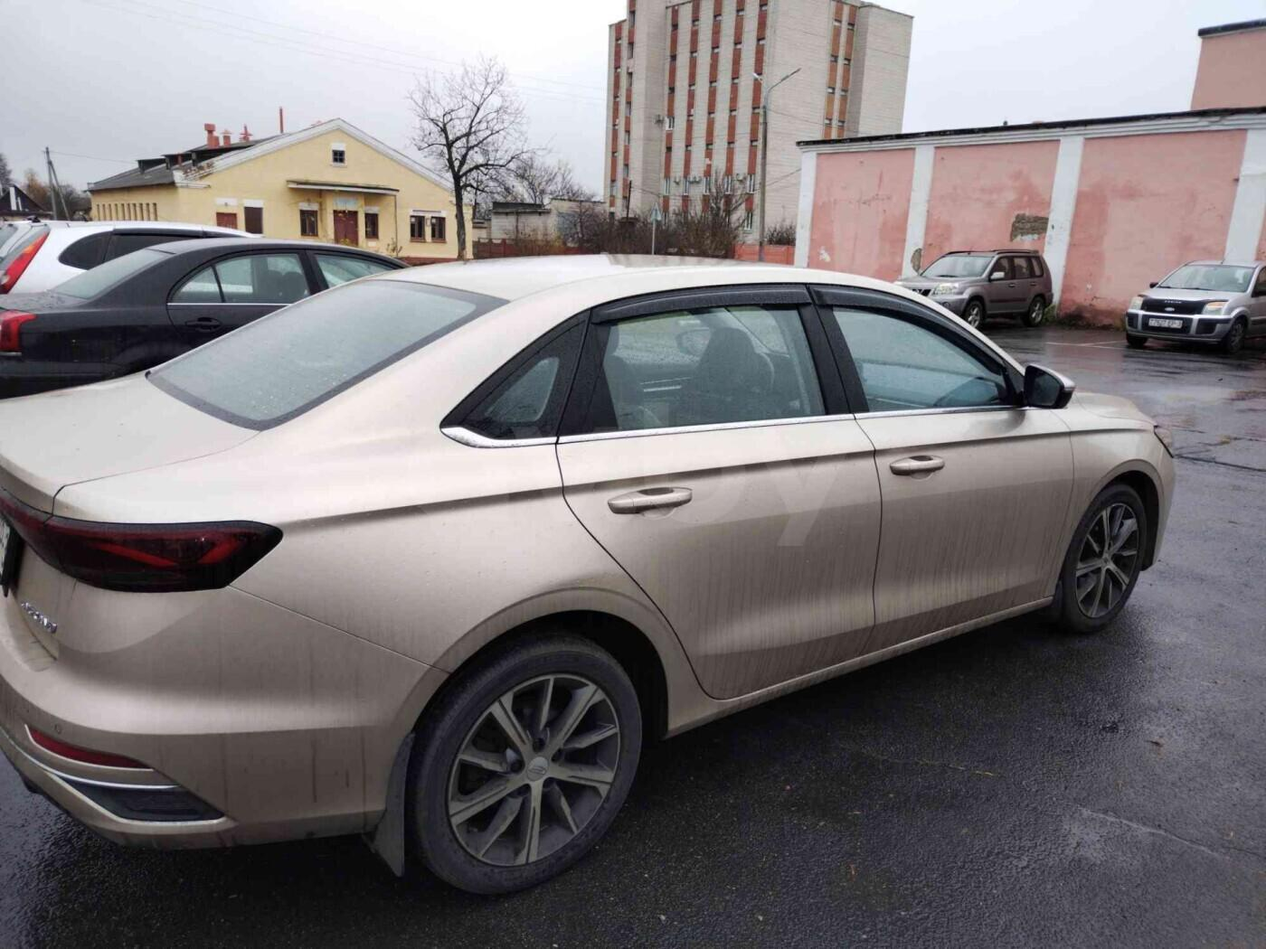Emgrand_2021: (1, 253, 1188, 903)
